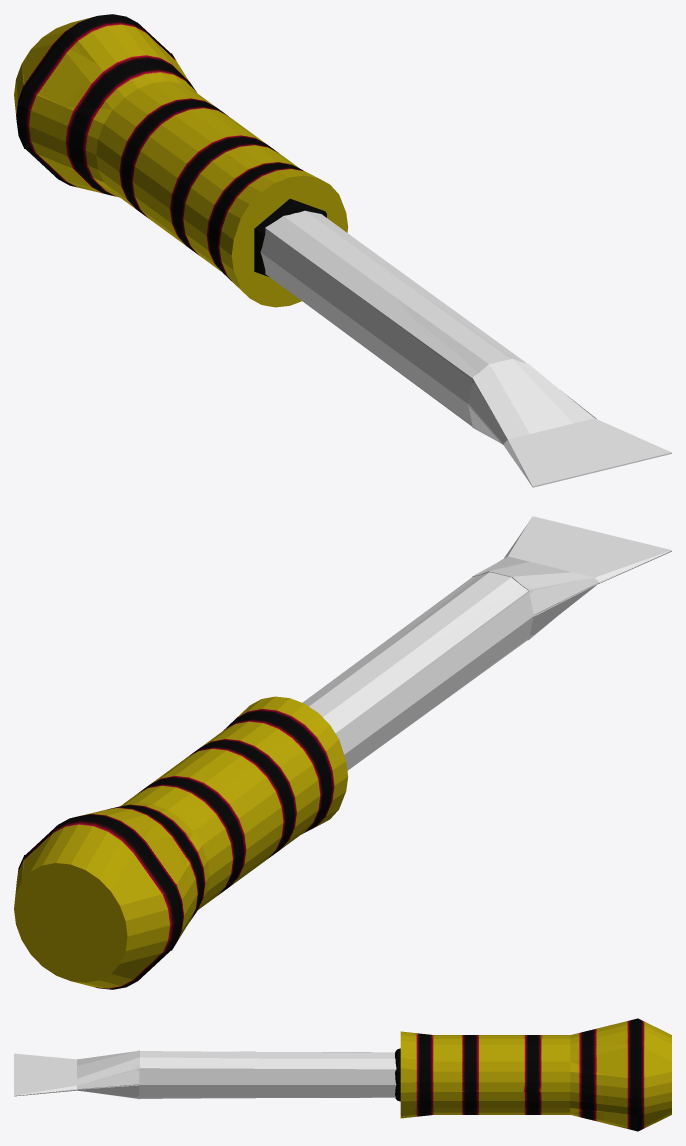
The model's file is Screwdriver3.fbx.
3 renders of one model, top to bottom at view 1: azimuth 30°, elevation 25°; view 2: azimuth 150°, elevation 25°; view 3: azimuth 270°, elevation 25°, orthographic. The views are drawn at different scales.
Parts seen in each view (by area): view 1: Screwdriver part; view 2: Screwdriver part; view 3: Screwdriver part.
Part boxes in pixels (x1,y1,x2,y2): Screwdriver part: [14, 14, 671, 487]; Screwdriver part: [14, 516, 671, 989]; Screwdriver part: [14, 1018, 671, 1131].
Size of the model in its own units: 43.22 by 43.28 by 244.
Materials: 4 (2 with a texture image).
